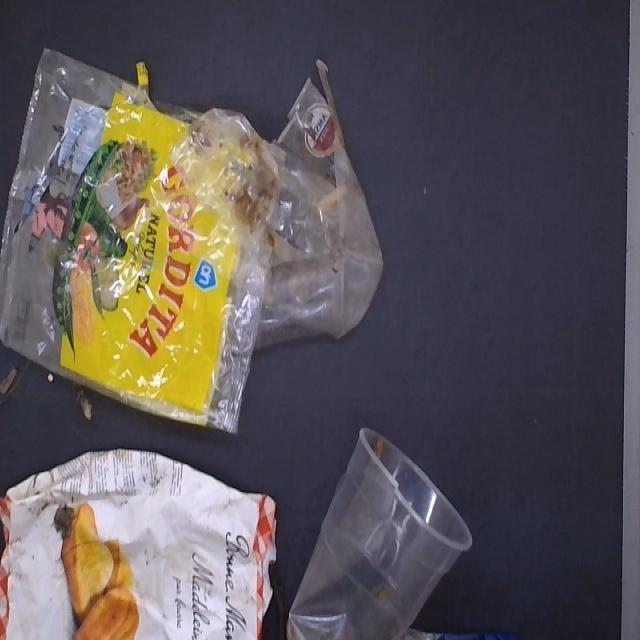food_wrapping: (8, 26, 266, 446), (1, 445, 275, 640)
plastic_cups: (247, 48, 389, 370), (277, 424, 472, 640)
